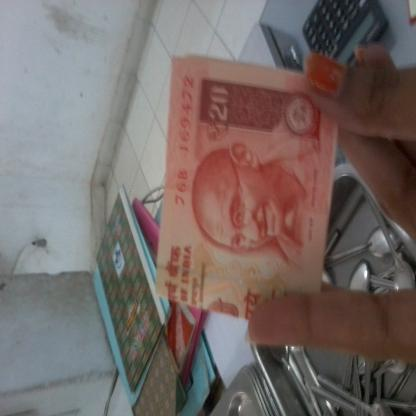Old20Front: (155, 54, 338, 320)
